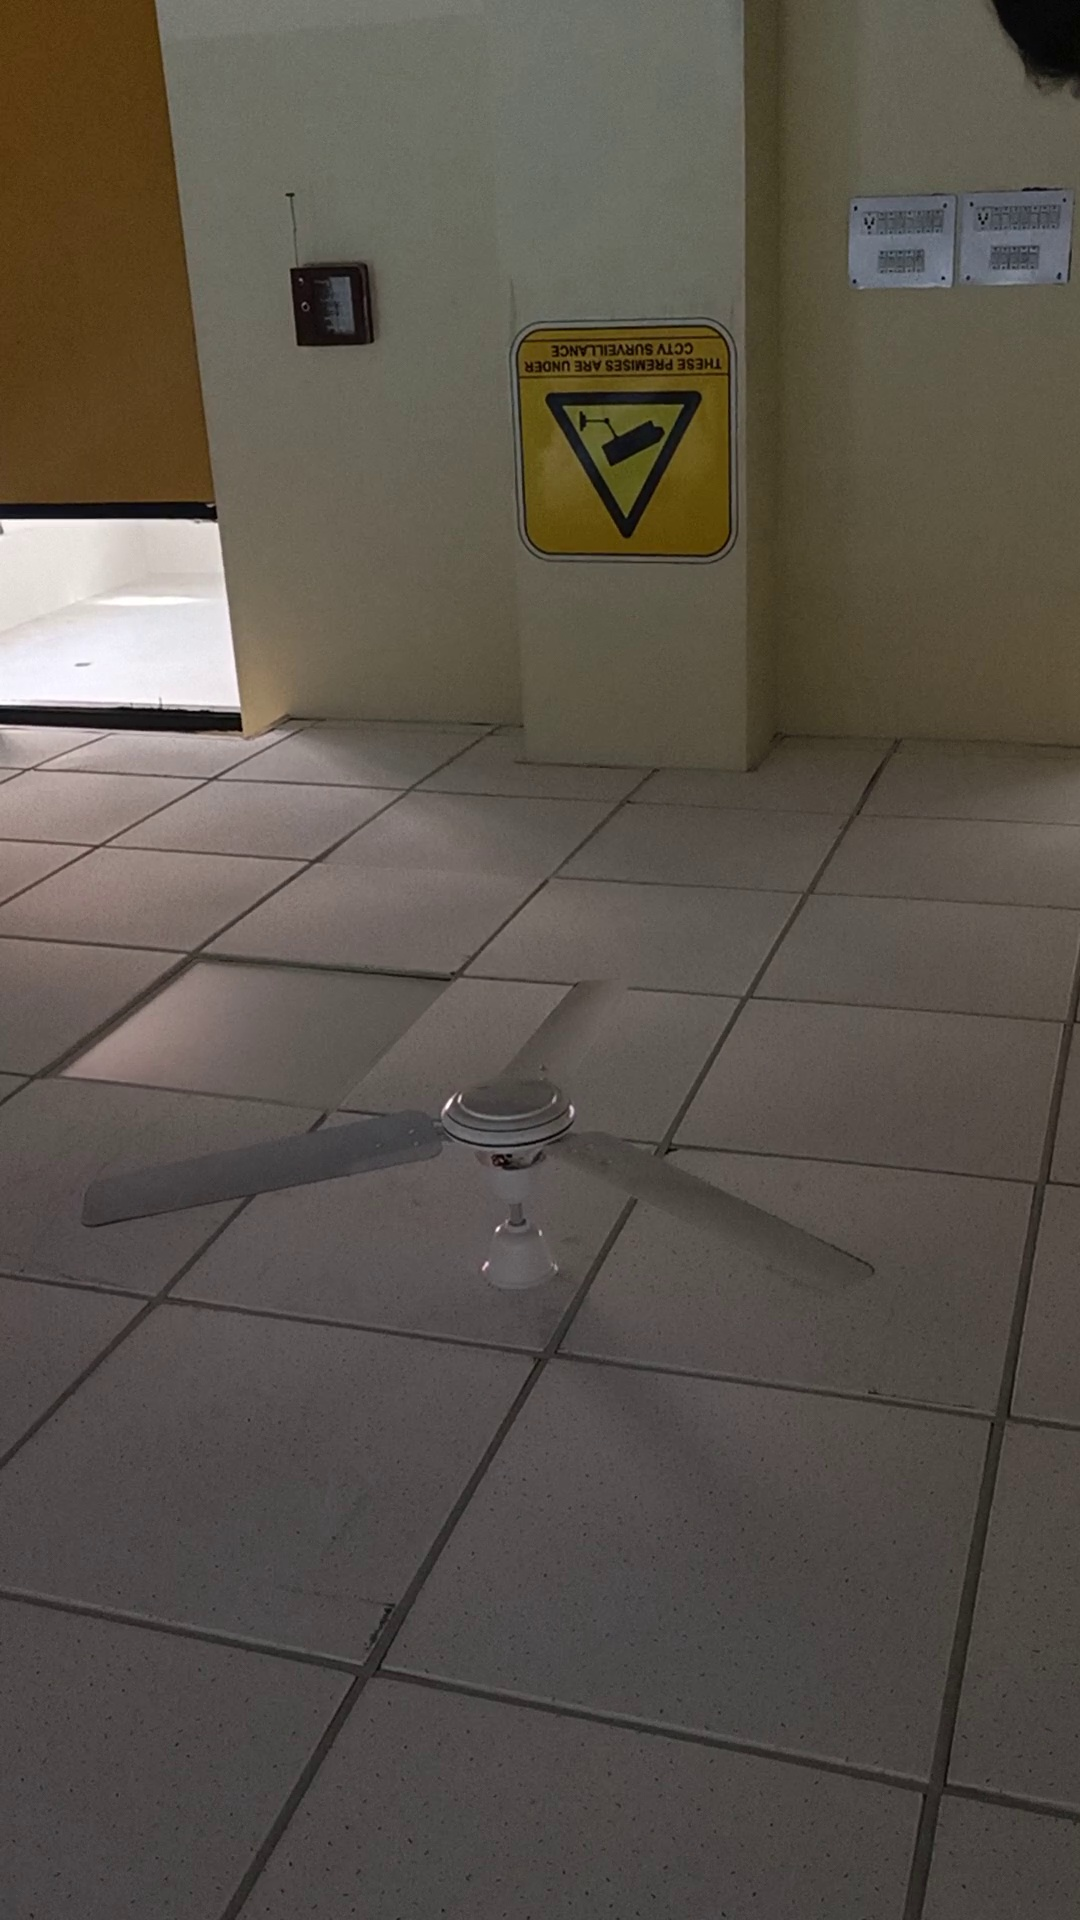fan: (411, 956, 895, 1353)
